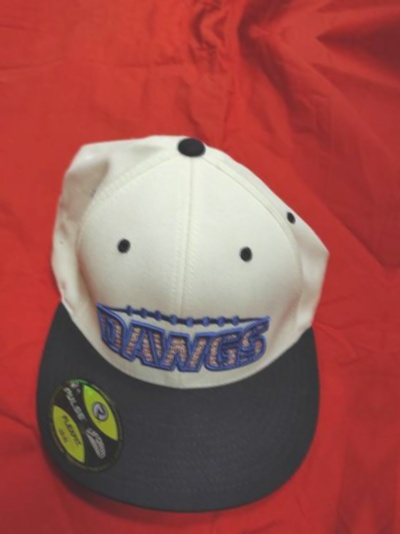Hat: (10, 98, 388, 534), (379, 135, 400, 534)
